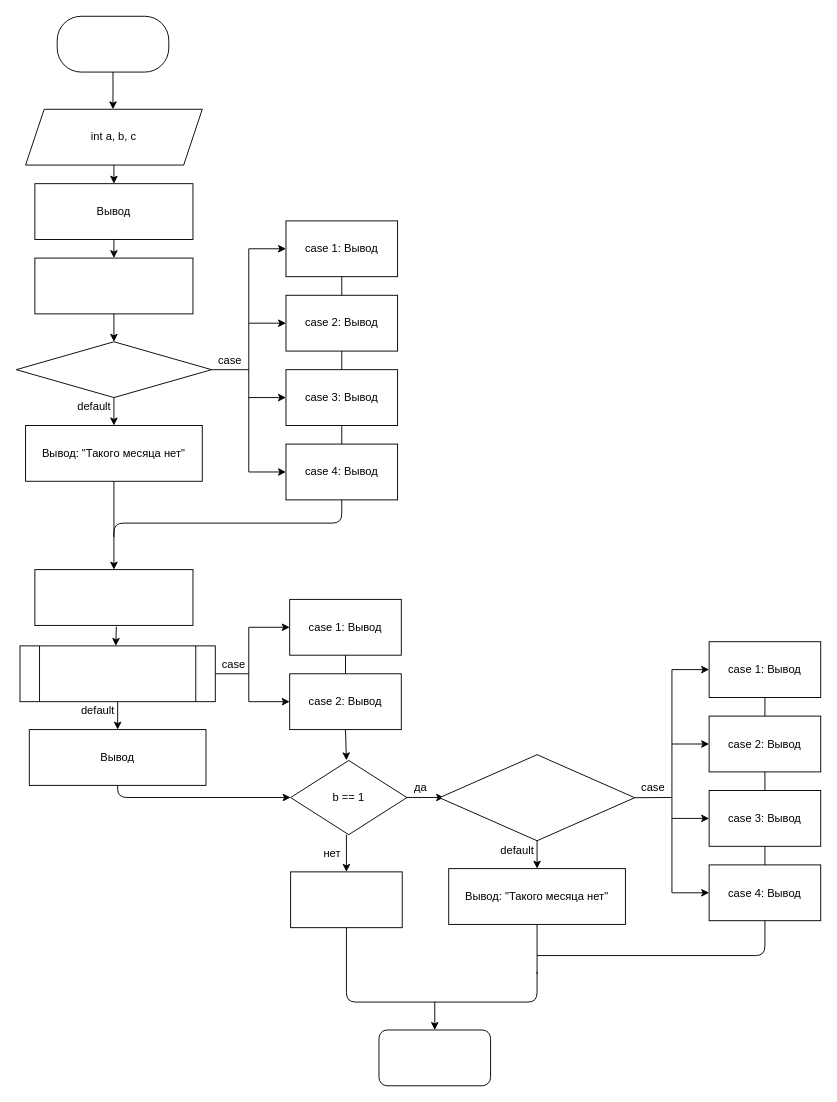
Some shapes in this 837 by 1102 pixel diagram are drawn without their labels. The centre of each missing label's shape, as x and y in pixels:
"switch (a)" goes at (117,673).
"switch a" goes at (113,369).
"switch c" goes at (536,797).
"Ввод с клавиатуры b" goes at (113,597).
"Ввод с клавитуры a" goes at (113,285).
"Возвращайтесь еще!" goes at (346,899).
"Конец" goes at (434,1057).
"Начало" goes at (112,43).
